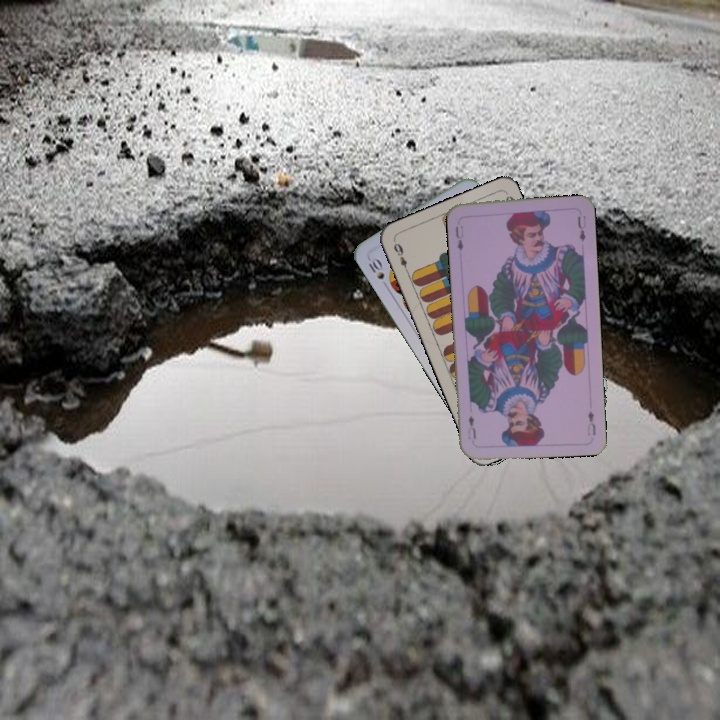E9: (389, 237, 411, 276)
EU: (451, 222, 466, 254), (583, 407, 598, 438)
S10: (364, 253, 387, 282)
